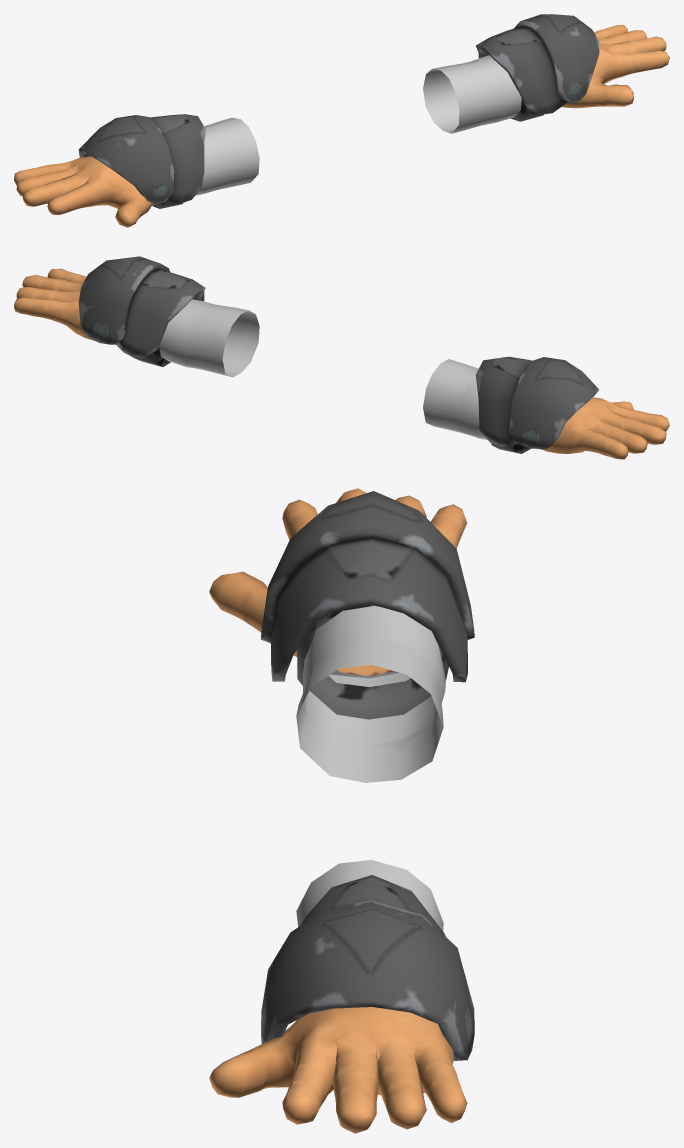
The picture shows the model from 3 angles, top to bottom: view 1: azimuth 30°, elevation 25°; view 2: azimuth 150°, elevation 25°; view 3: azimuth 270°, elevation 25°; orthographic projection. The views are drawn at different scales.
Visible parts, largest first — view 1: model_0_submesh_0, model_0_submesh_2, model_0_submesh_1; view 2: model_0_submesh_0, model_0_submesh_1, model_0_submesh_2; view 3: model_0_submesh_0, model_0_submesh_2, model_0_submesh_1.
Boxes of the visible parts, box(x1,y1,x2,y2) form: model_0_submesh_0: box(78, 14, 599, 208); model_0_submesh_2: box(14, 25, 669, 227); model_0_submesh_1: box(152, 55, 521, 205); model_0_submesh_0: box(78, 256, 598, 453); model_0_submesh_1: box(159, 299, 537, 449); model_0_submesh_2: box(14, 268, 669, 459); model_0_submesh_0: box(261, 491, 474, 1060); model_0_submesh_2: box(209, 488, 467, 1133); model_0_submesh_1: box(296, 606, 445, 1020).
Size of the model in its own units: 3.6 by 0.4975 by 0.6449.
